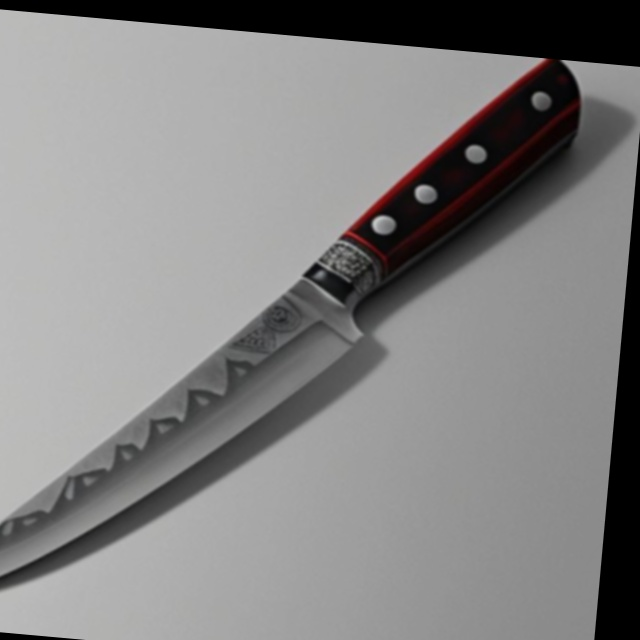Sharp-Object: (0, 5, 589, 640)
